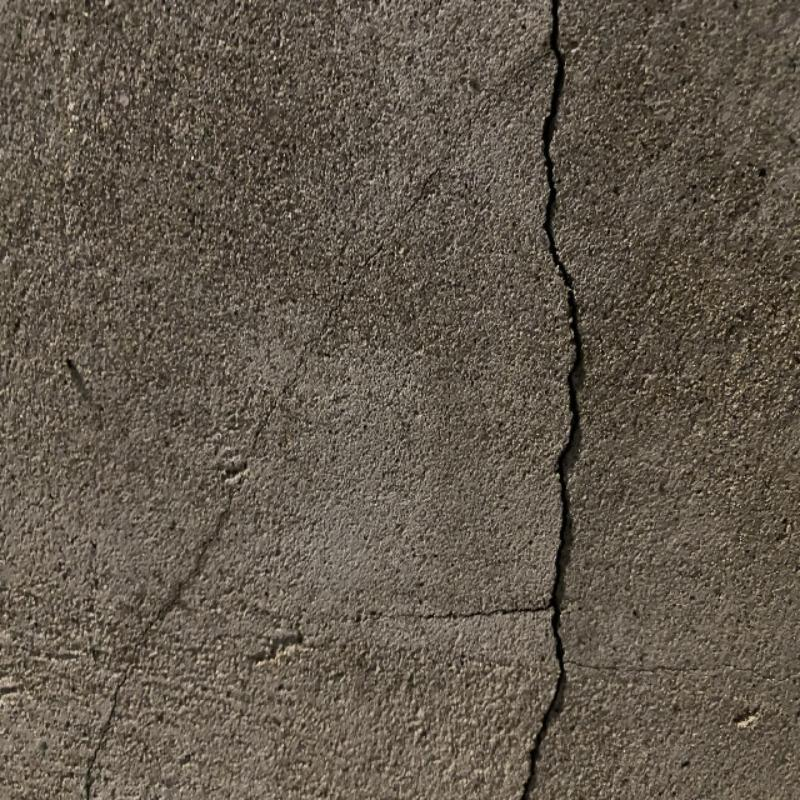pothole: (517, 10, 585, 797)
